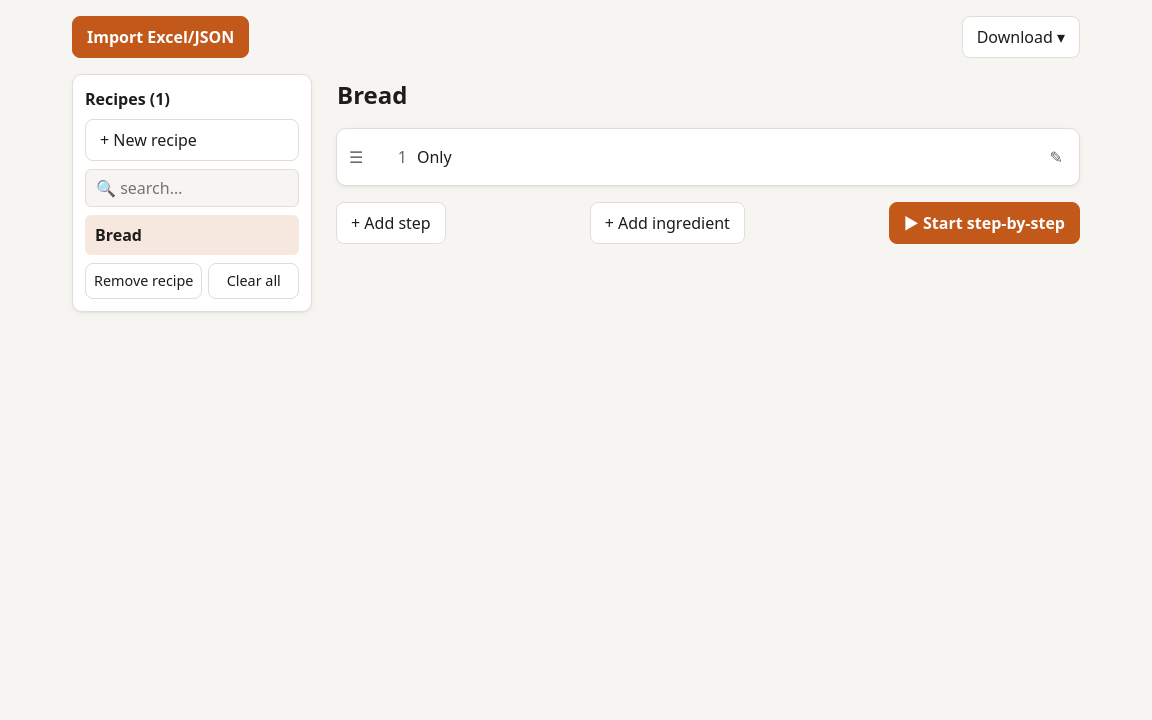
Test: deleting all steps disables step-by-step
Earlier steps of the test are not shown.
Expected: the button "▶ Start step-by-step" is enabled, [889,202,1080,244]
Step 1. Click the button named "Edit step 1" → [1056, 157], box [1042,139,1071,175]
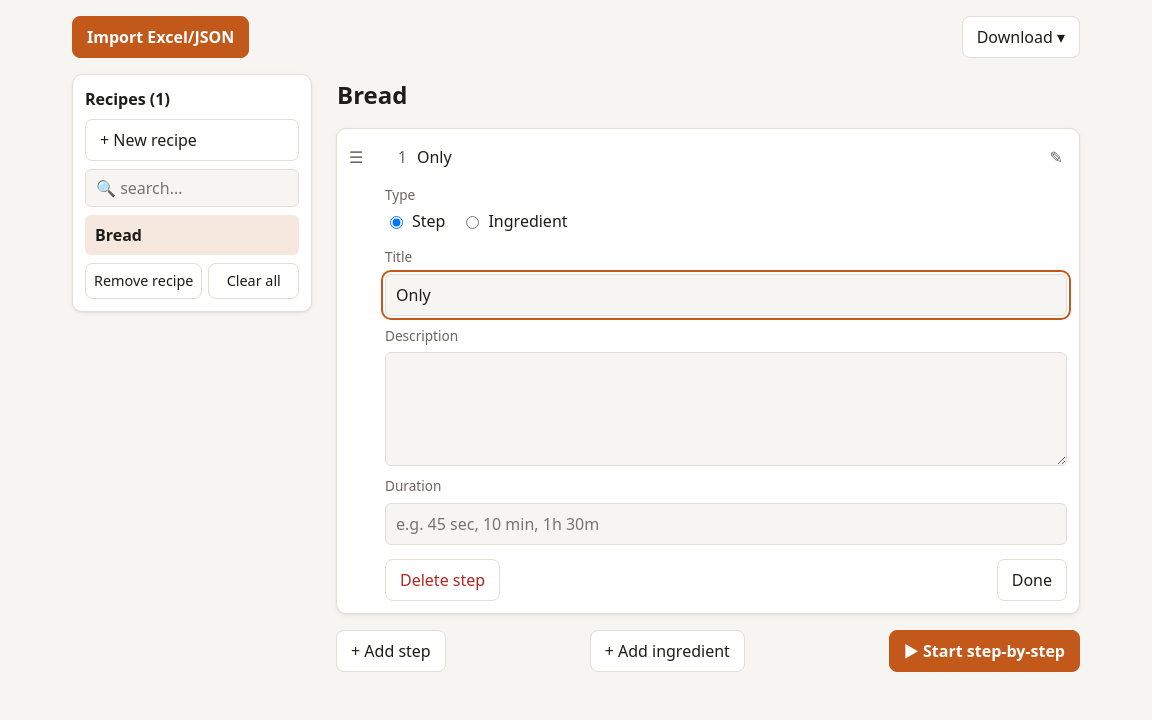
Step 2. Click the button "Delete step" → [443, 580], box [385,559,500,601]
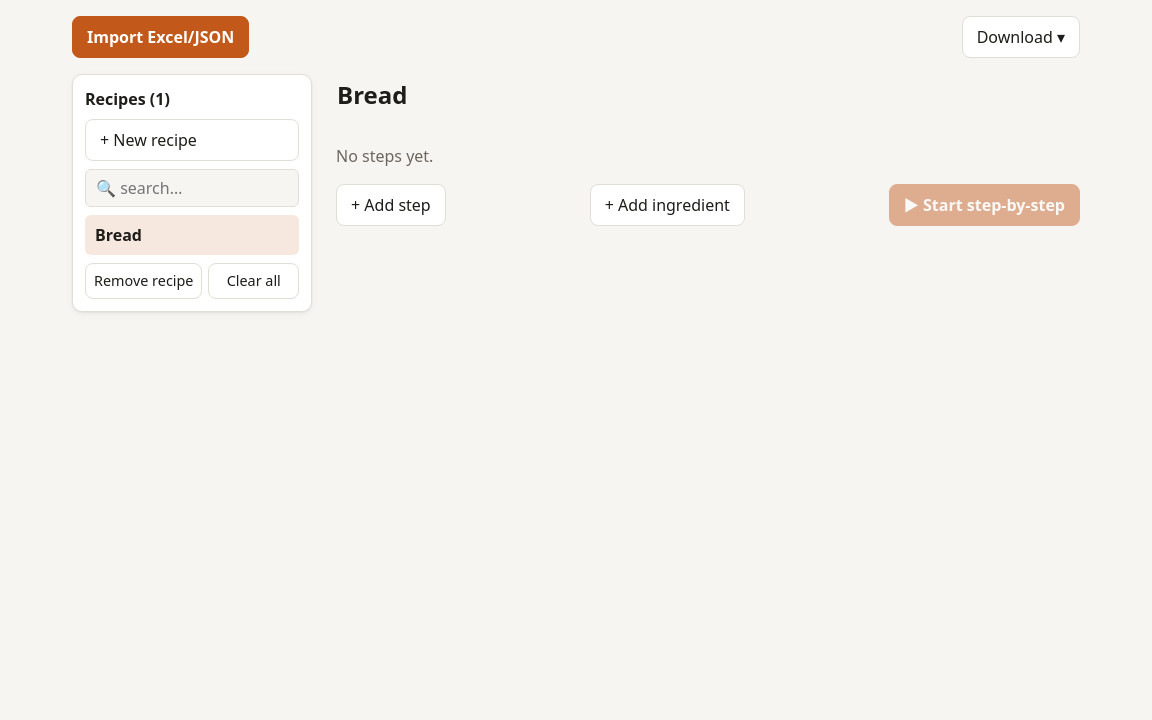
Now the button "▶ Start step-by-step" is disabled, box [889,184,1080,226]
